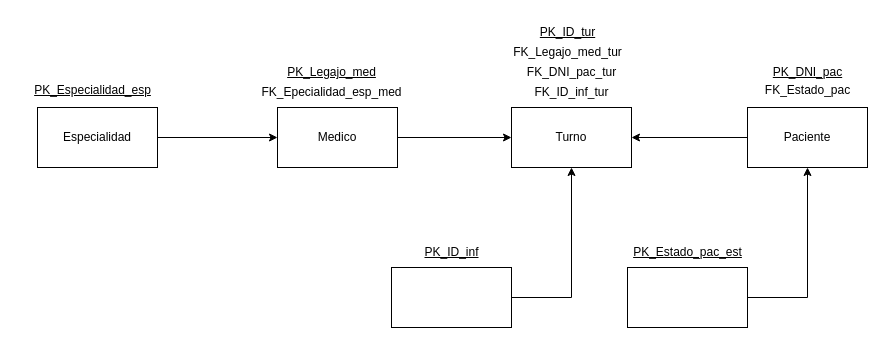
Some shapes in this 885 by 345 pixel diagram are drawn without their labels. Each missing label, with the centre of its shape:
Estado: point 687,297
Informe: point 451,297
